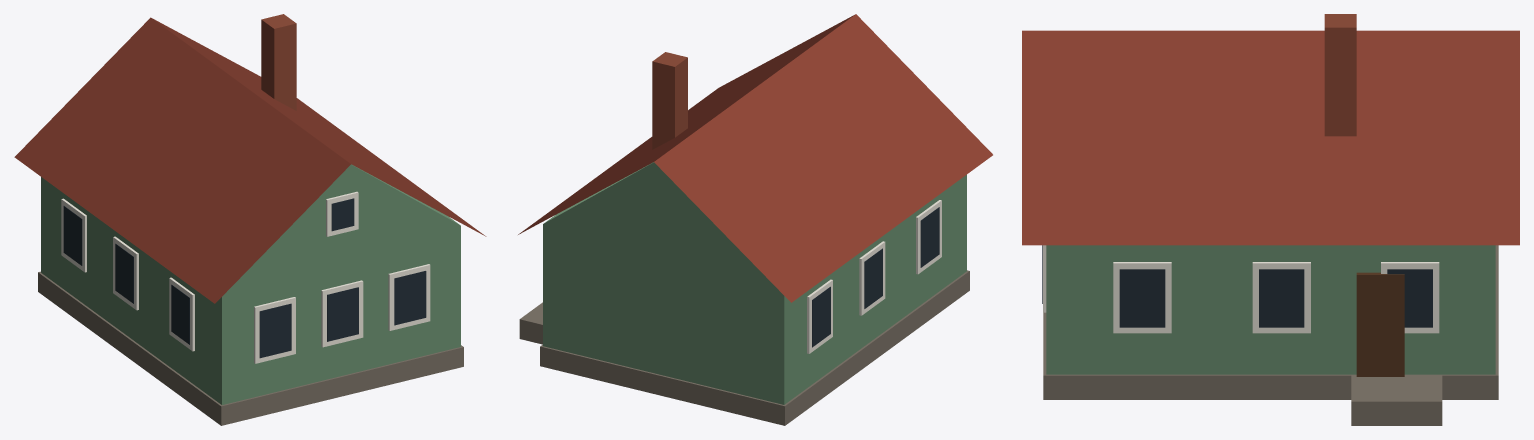
The model's file is izba_green_red.glb.
3 views of the same model, side by side, from view 1: azimuth 30°, elevation 25°; view 2: azimuth 150°, elevation 25°; view 3: azimuth 270°, elevation 25° (orthographic). The views are drawn at different scales.
Parts seen in each view (by area): view 1: izba_green_red; view 2: izba_green_red; view 3: izba_green_red.
Part boxes in pixels (x1,y1,x2,y2): izba_green_red: (14,14,486,425); izba_green_red: (518,14,992,425); izba_green_red: (1022,14,1519,425).
Bounding box in the file's own units: 8.05 × 7 × 9.3.
